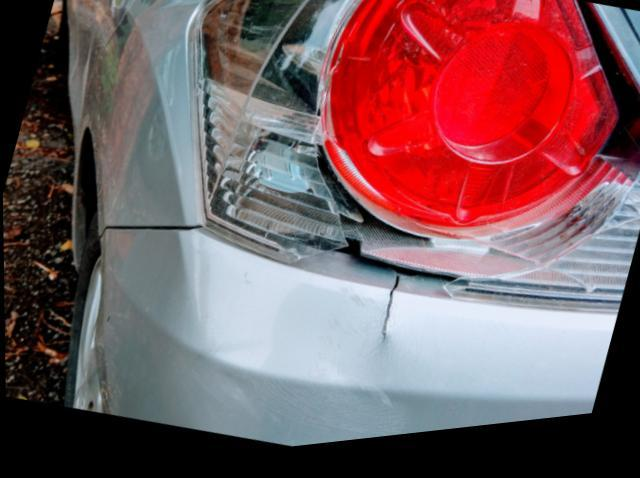crack: (379, 277, 398, 355)
lamp broken: (197, 0, 640, 315)
